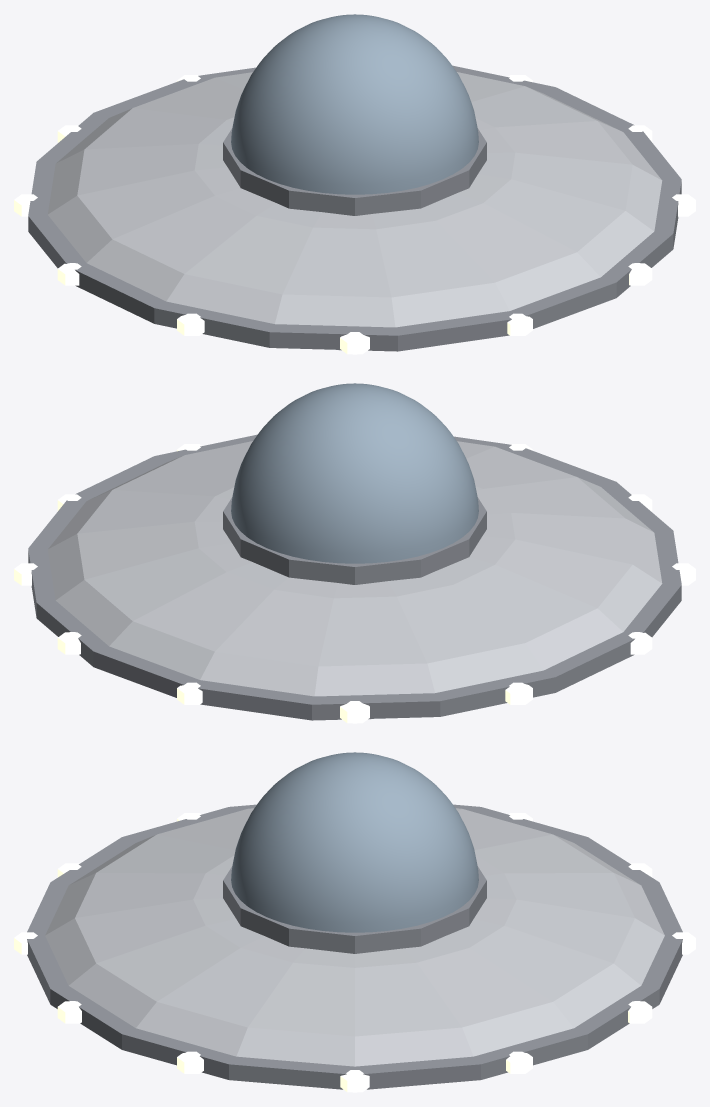
Rendered from ufo.glb.
3 views of the same model, one above another, from view 1: azimuth 30°, elevation 25°; view 2: azimuth 150°, elevation 25°; view 3: azimuth 270°, elevation 25° (orthographic).
Visible parts, largest first — view 1: ufo, dome; view 2: ufo, dome; view 3: ufo, dome.
Boxes of the visible parts, x1,y1,x2,y2 form: ufo: (14, 65, 695, 354); dome: (231, 14, 478, 194); ufo: (14, 434, 695, 723); dome: (231, 383, 478, 563); ufo: (14, 804, 695, 1092); dome: (231, 752, 478, 932).
Bounding box in the file's own units: 5.45 × 2.28 × 5.48.
